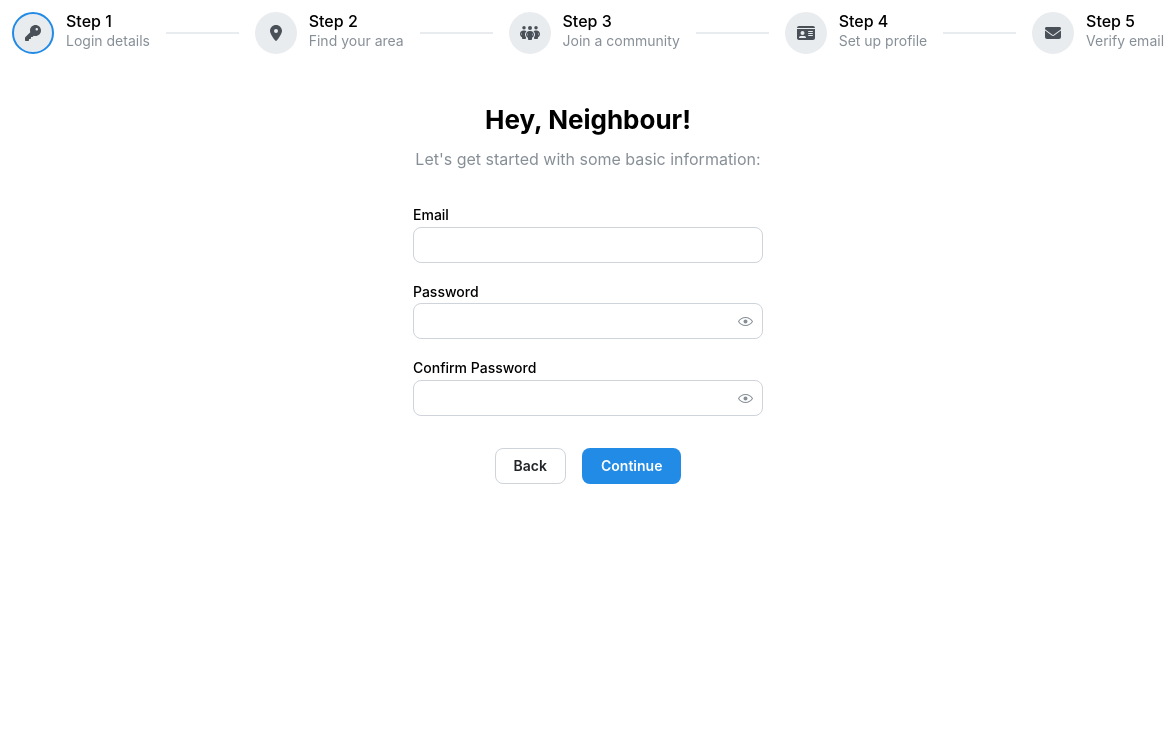
Test: Initial Component & Step 1: Login Details › Doesnt navigate to Step 2 if email is present but invalid
Type "user" into the field with test id "email" at [588, 245], box left=413, top=227, right=763, bottom=263
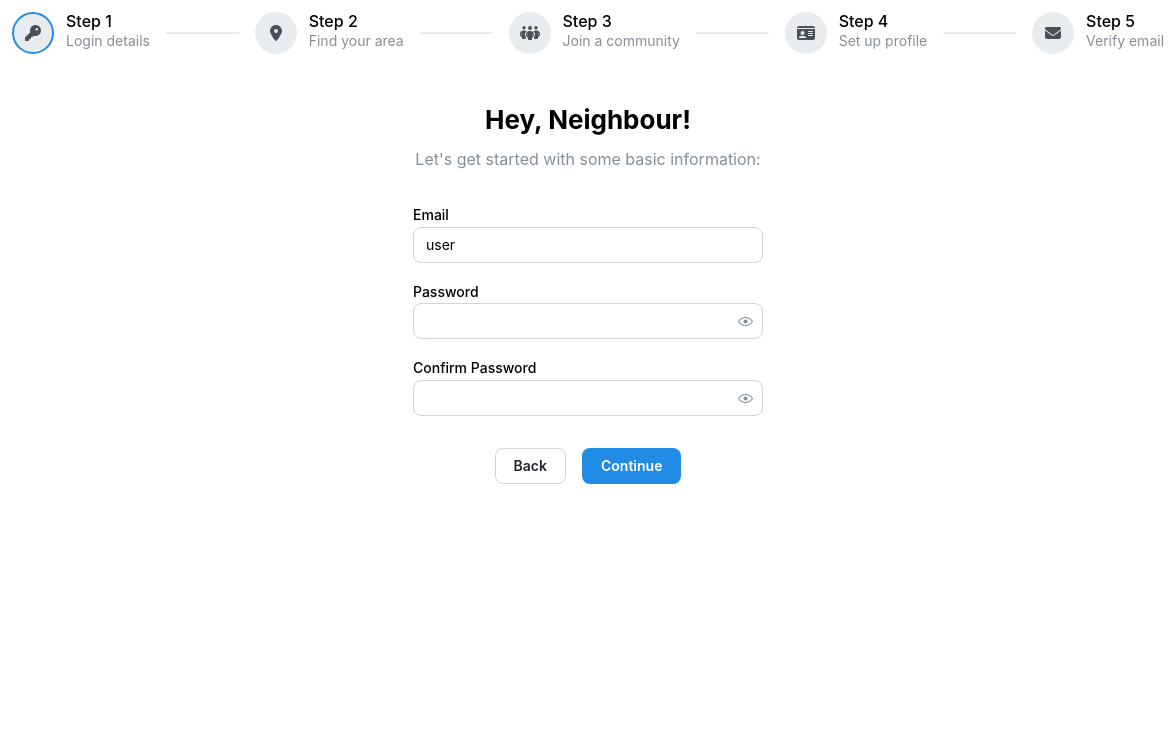
Type "password" into the password field with test id "password" at [588, 322], box left=414, top=304, right=762, bottom=338
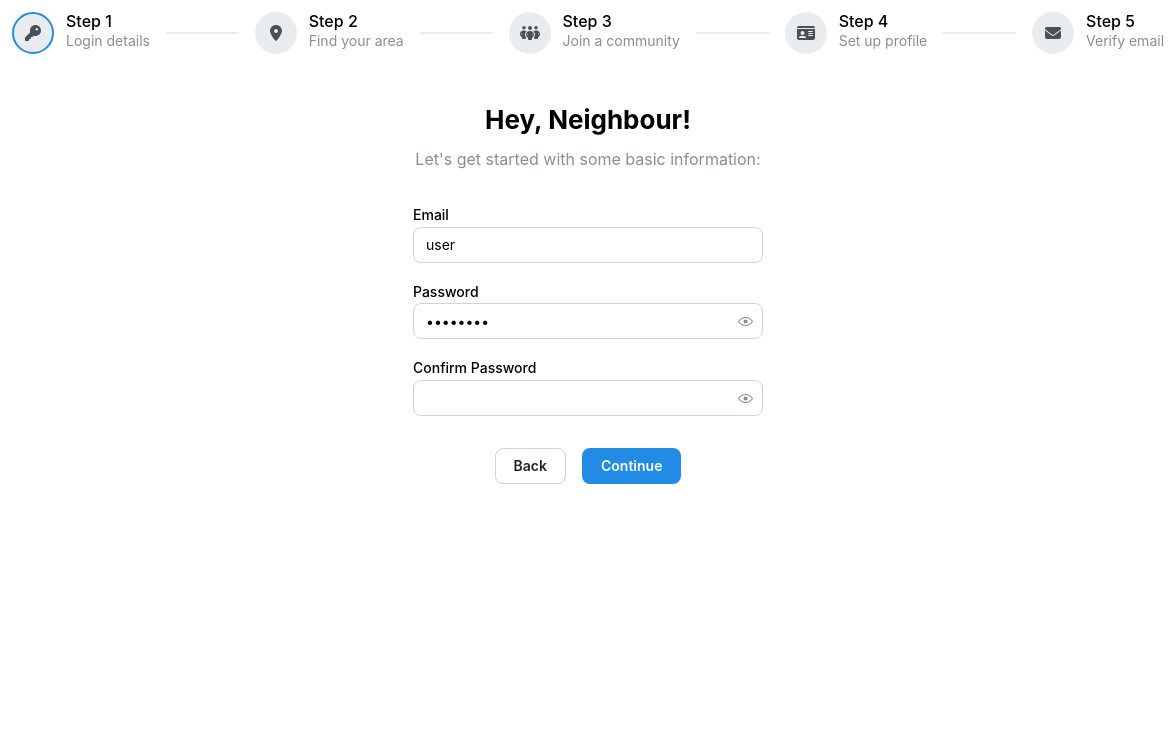
Type "password" into the password field with test id "confirmPassword" at [588, 398], box left=414, top=381, right=762, bottom=415
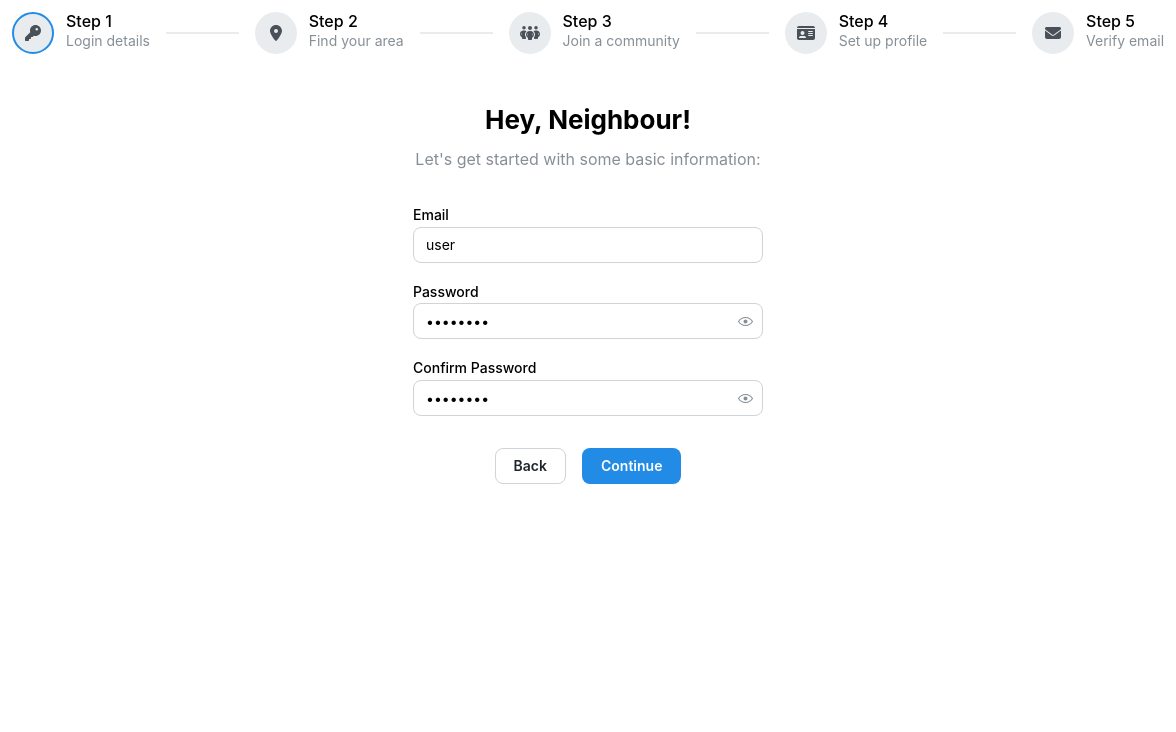
Click the button "Continue" at [632, 466], box left=582, top=448, right=681, bottom=484
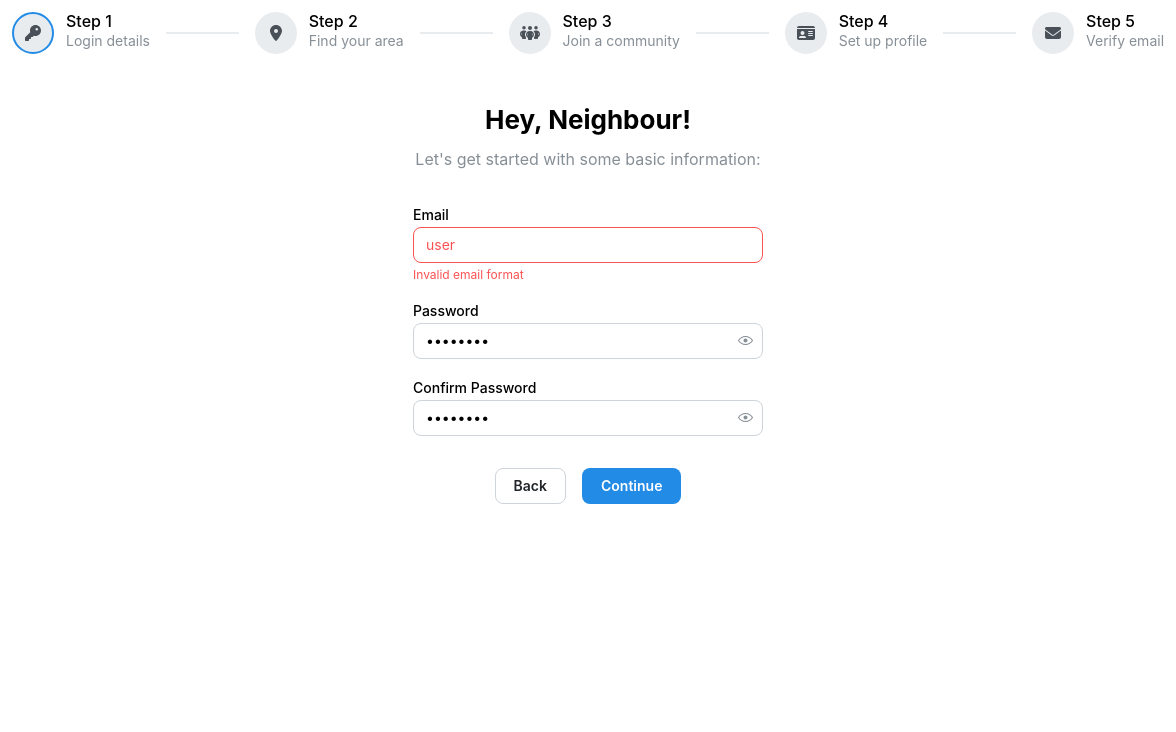
Now the text "Invalid email format" is shown, box left=413, top=267, right=524, bottom=282
